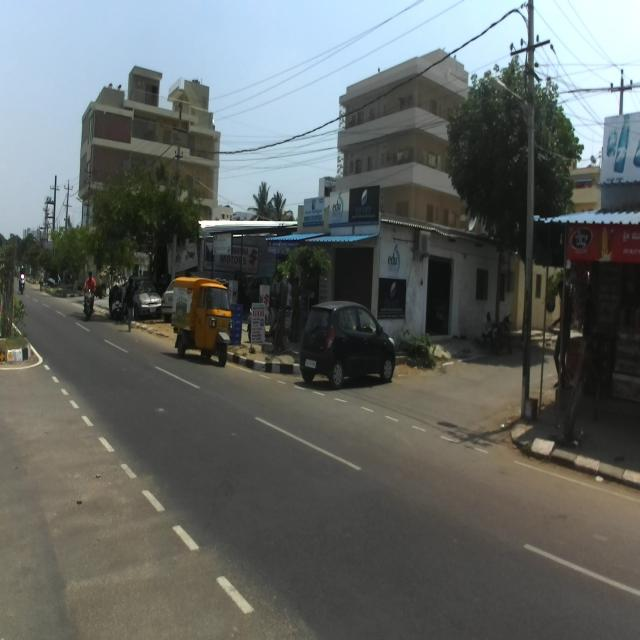Car_Hyundai: (299, 298, 396, 389)
autorickshaw: (170, 271, 234, 366)
